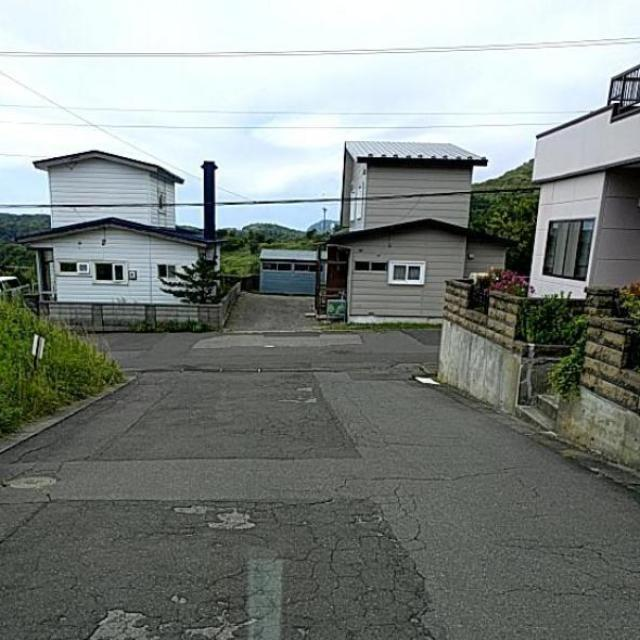Sambungan: (0, 502, 442, 640), (10, 376, 355, 459)
